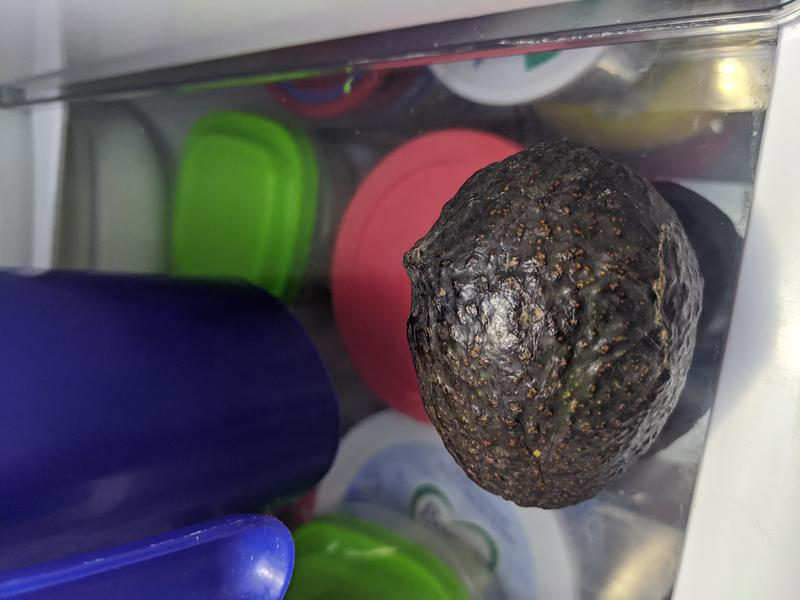avocado: (402, 139, 704, 510)
